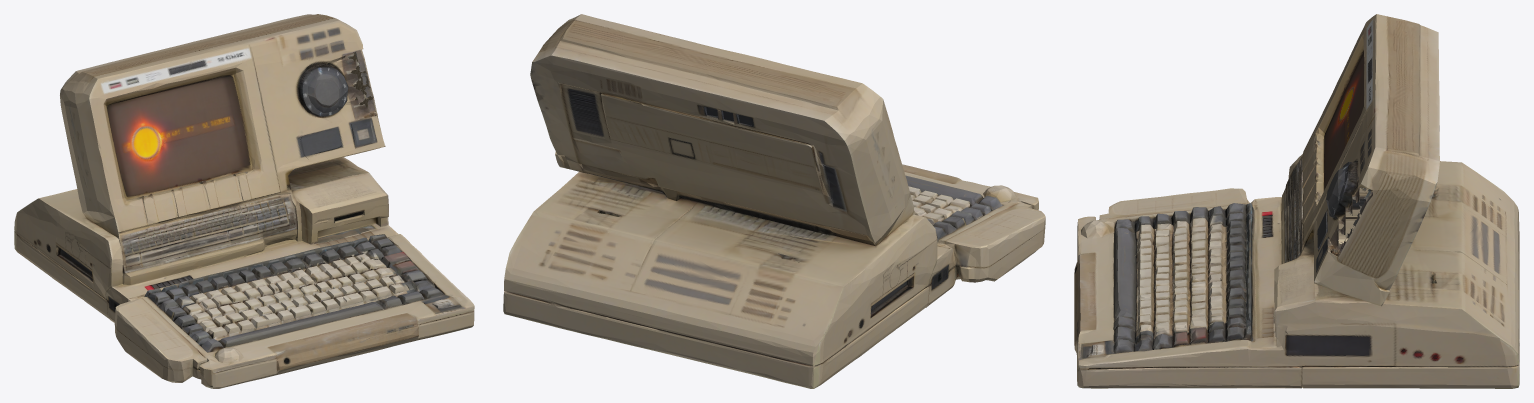
File: old_computer.glb
The picture shows the model from 3 angles, left to right: view 1: azimuth 30°, elevation 25°; view 2: azimuth 150°, elevation 25°; view 3: azimuth 270°, elevation 25°; orthographic projection. The views are drawn at different scales.
Parts seen in each view (by area): view 1: temp; view 2: temp; view 3: temp.
Boxes of the visible parts, x1,y1,x2,y2 form: temp: [14, 14, 474, 388]; temp: [503, 14, 1045, 388]; temp: [1074, 14, 1519, 388].
Bounding box in the file's own units: 1.8 × 1.19 × 1.99.
Materials: 1 (1 with a texture image).
